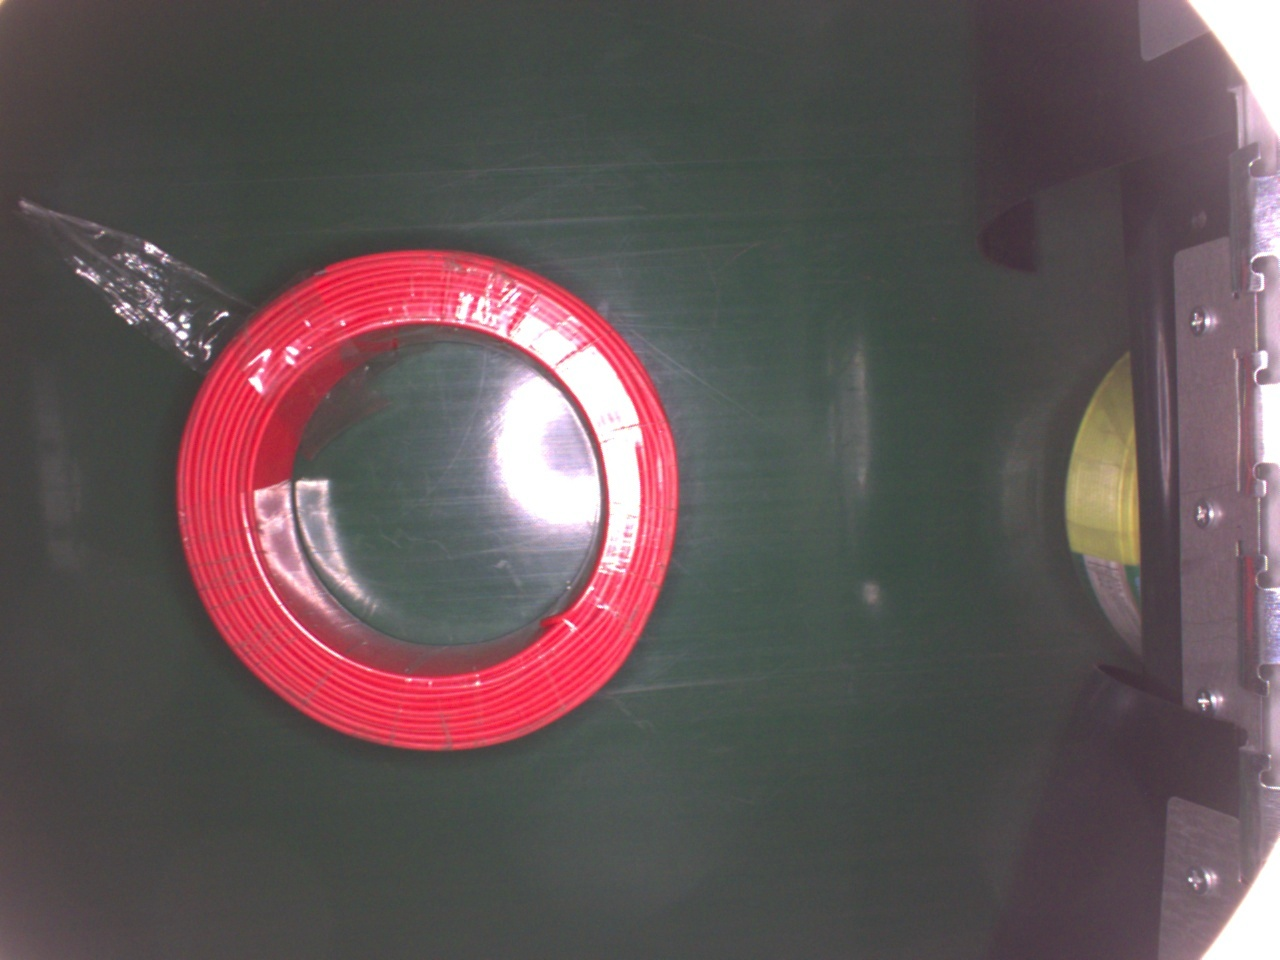red: (174, 247, 686, 748)
